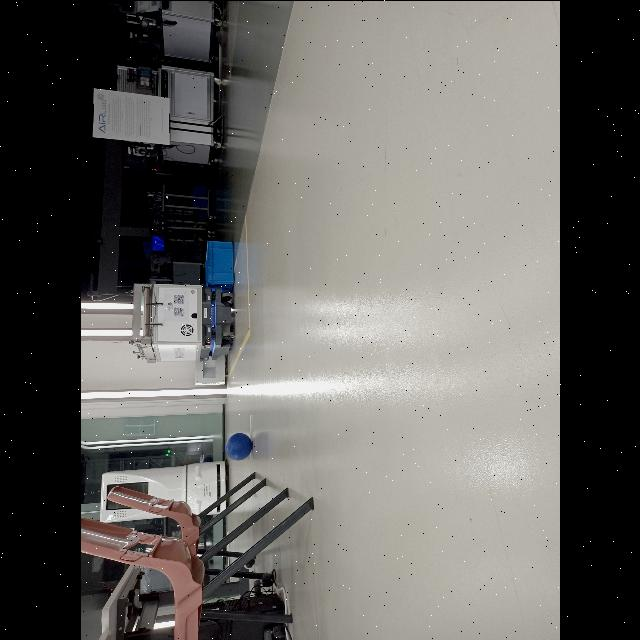B: (225, 432, 252, 460)
